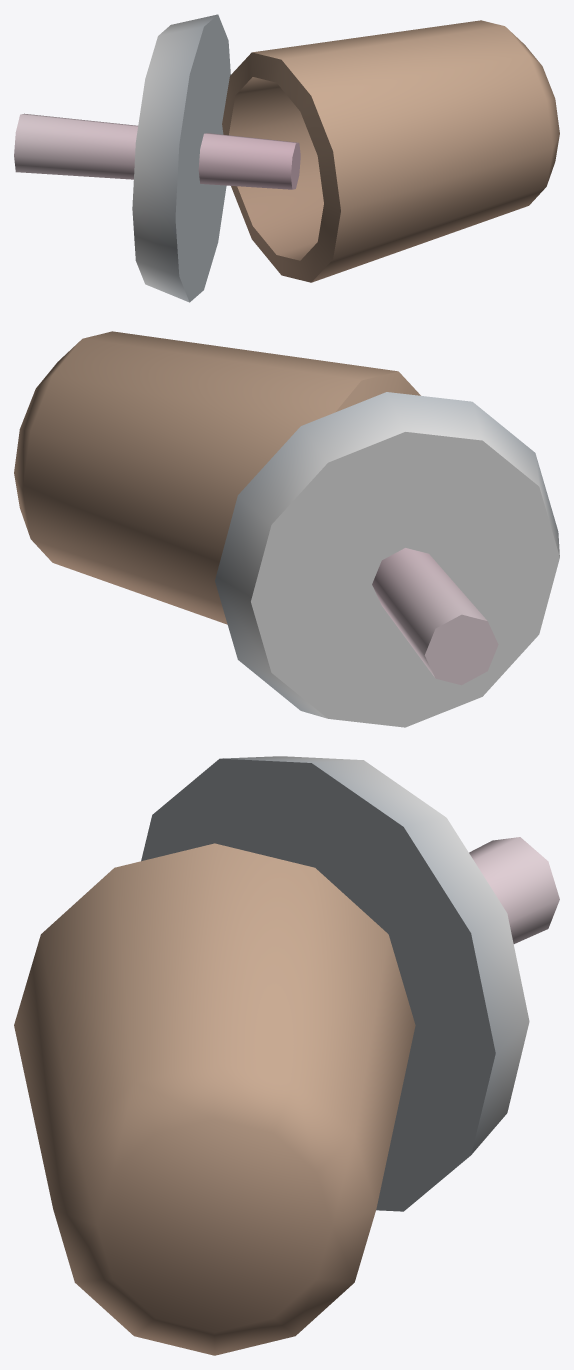
The model's file is boba-tea-open.glb.
3 views of the same model, one above another, from view 1: azimuth 30°, elevation 25°; view 2: azimuth 150°, elevation 25°; view 3: azimuth 270°, elevation 25° (orthographic). The views are drawn at different scales.
Visible parts, largest first — view 1: boba-tea-open; view 2: boba-tea-open; view 3: boba-tea-open.
Boxes of the visible parts, x1,y1,x2,y2 form: boba-tea-open: (14, 14, 559, 302); boba-tea-open: (14, 331, 559, 727); boba-tea-open: (14, 756, 559, 1355).
Bounding box in the file's own units: 0.3248 × 0.1891 × 0.2107.
